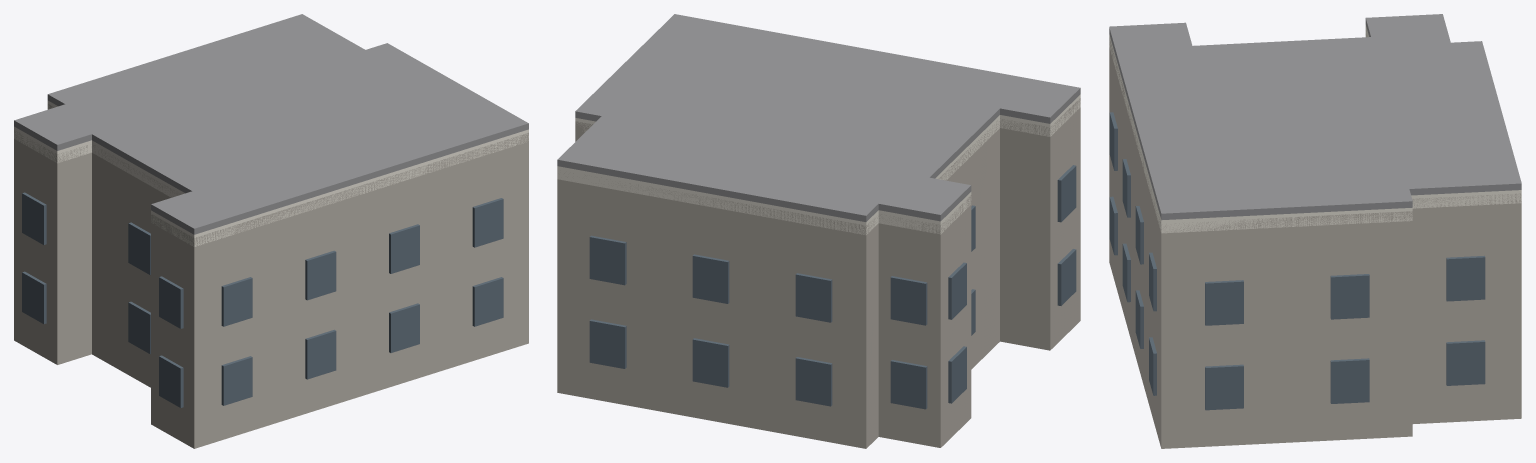
The model's file is s51_gis_248164_820698.glb.
The picture shows the model from 3 angles, left to right: view 1: azimuth 30°, elevation 25°; view 2: azimuth 150°, elevation 25°; view 3: azimuth 270°, elevation 25°; orthographic projection. The views are drawn at different scales.
Parts seen in each view (by area): view 1: mass, roofcap, cornice, win_7_0_1, win_7_0_0, win_7_1_1, win_7_1_3, win_7_0_3, win_7_1_0, win_7_0_2, win_7_1_2, win_6_0_0 (+5 smaller); view 2: mass, roofcap, cornice, win_11_1_2, win_1_1_0, win_11_0_0, win_11_1_0, win_11_1_1, win_11_0_1, win_1_0_0, win_11_0_2, win_6_1_0 (+3 smaller); view 3: mass, roofcap, cornice, win_8_1_1, win_10_0_0, win_8_0_1, win_10_1_0, win_8_0_0, win_8_1_0, win_7_0_1, win_7_0_0, win_7_1_0 (+5 smaller).
Boxes of the visible parts, x1=… form: mass: x1=14, y1=104, x2=528, y2=448; roofcap: x1=14, y1=14, x2=528, y2=234; cornice: x1=14, y1=100, x2=528, y2=246; win_7_0_1: x1=305, y1=329, x2=336, y2=379; win_7_0_0: x1=221, y1=356, x2=252, y2=405; win_7_1_1: x1=305, y1=250, x2=336, y2=300; win_7_1_3: x1=472, y1=198, x2=503, y2=247; win_7_0_3: x1=472, y1=277, x2=503, y2=326; win_7_1_0: x1=221, y1=277, x2=252, y2=326; win_7_0_2: x1=389, y1=303, x2=419, y2=352; win_7_1_2: x1=389, y1=224, x2=419, y2=273; win_6_0_0: x1=159, y1=355, x2=183, y2=407; mass: x1=557, y1=98, x2=1080, y2=448; roofcap: x1=557, y1=14, x2=1080, y2=221; cornice: x1=557, y1=94, x2=1080, y2=235; win_11_1_2: x1=795, y1=273, x2=832, y2=322; win_1_1_0: x1=890, y1=276, x2=927, y2=325; win_11_0_0: x1=589, y1=319, x2=626, y2=368; win_11_1_0: x1=589, y1=235, x2=626, y2=285; win_11_1_1: x1=692, y1=254, x2=729, y2=303; win_11_0_1: x1=692, y1=338, x2=729, y2=387; win_1_0_0: x1=890, y1=360, x2=927, y2=409; win_11_0_2: x1=795, y1=357, x2=832, y2=406; win_6_1_0: x1=1057, y1=165, x2=1076, y2=222; mass: x1=1109, y1=34, x2=1521, y2=448; roofcap: x1=1109, y1=14, x2=1521, y2=220; cornice: x1=1109, y1=25, x2=1521, y2=233; win_8_1_1: x1=1330, y1=274, x2=1369, y2=319; win_10_0_0: x1=1446, y1=340, x2=1485, y2=385; win_8_0_1: x1=1330, y1=358, x2=1369, y2=403; win_10_1_0: x1=1446, y1=255, x2=1485, y2=301; win_8_0_0: x1=1205, y1=364, x2=1243, y2=410; win_8_1_0: x1=1205, y1=280, x2=1243, y2=325; win_7_0_1: x1=1122, y1=243, x2=1130, y2=302; win_7_0_0: x1=1109, y1=196, x2=1117, y2=255; win_7_1_0: x1=1109, y1=112, x2=1117, y2=170.
Bounding box in the file's own units: 15.25 × 8.35 × 13.27.
